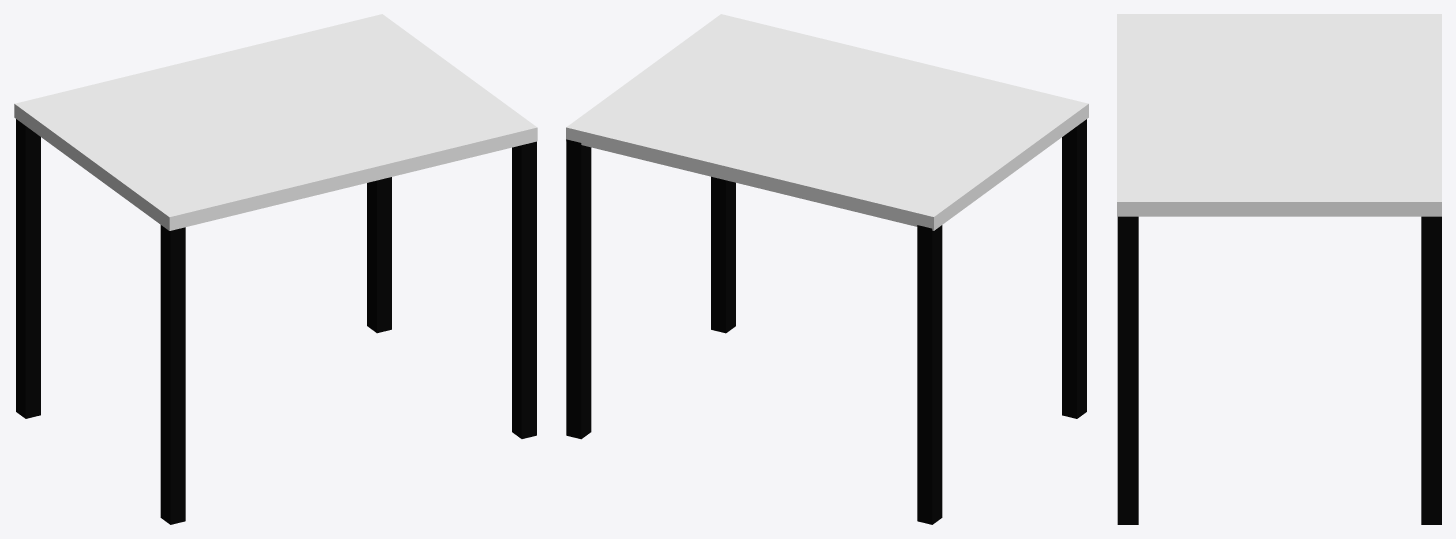
Rendered from Desk.fbx.
The picture shows the model from 3 angles, left to right: view 1: azimuth 30°, elevation 25°; view 2: azimuth 150°, elevation 25°; view 3: azimuth 270°, elevation 25°; orthographic projection. The views are drawn at different scales.
Parts seen in each view (by area): view 1: pCube6; view 2: pCube6; view 3: pCube6.
Boxes of the visible parts, x1,y1,x2,y2 form: pCube6: (14, 14, 537, 524); pCube6: (566, 14, 1088, 524); pCube6: (1117, 14, 1441, 524).
Bounding box in the file's own units: 0.9713 × 0.7777 × 0.7091.
2 materials, 2 textured.
